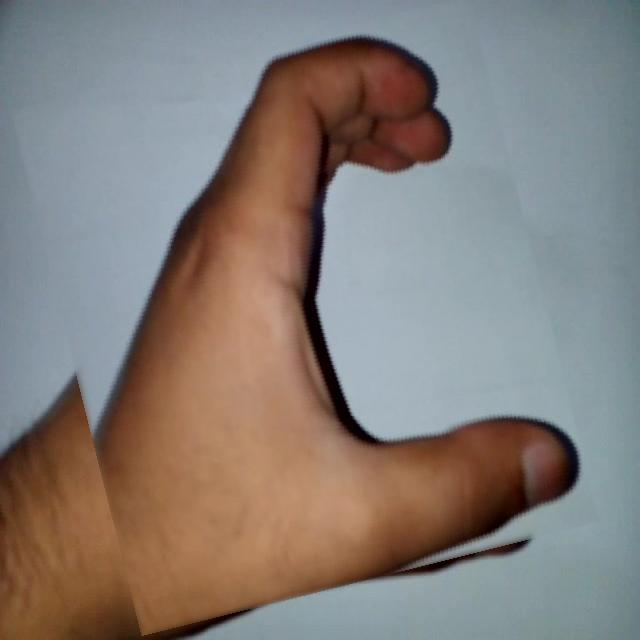C: (40, 21, 571, 612)
